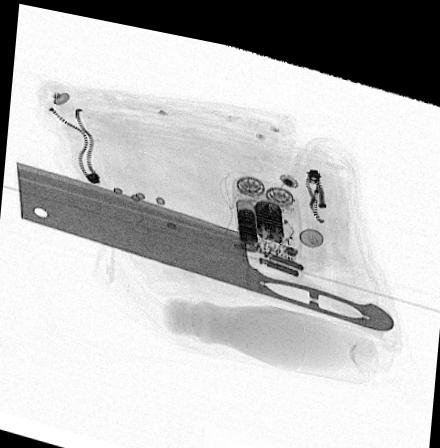Knife: (14, 160, 397, 317)
